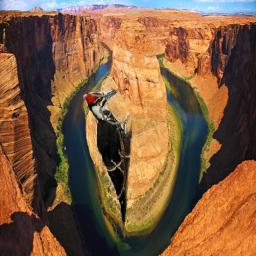Woodpecker: (84, 88, 133, 233)
